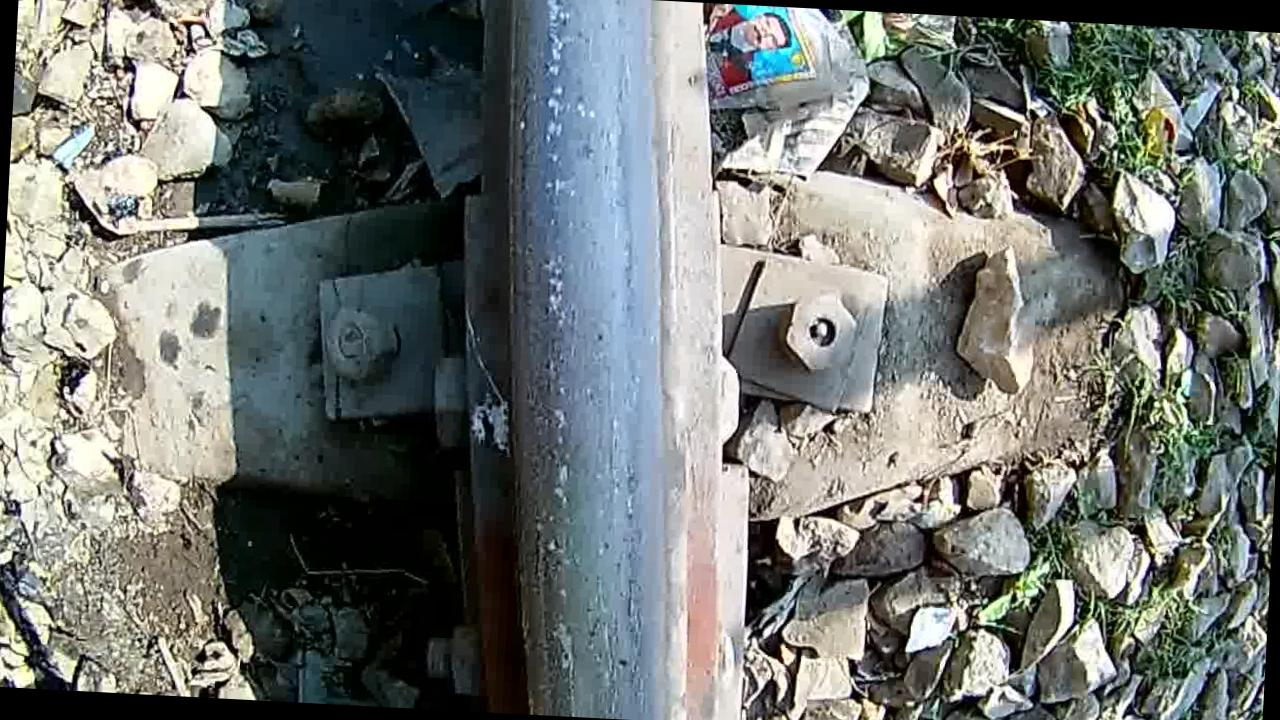clip_missing: (471, 0, 710, 720)
